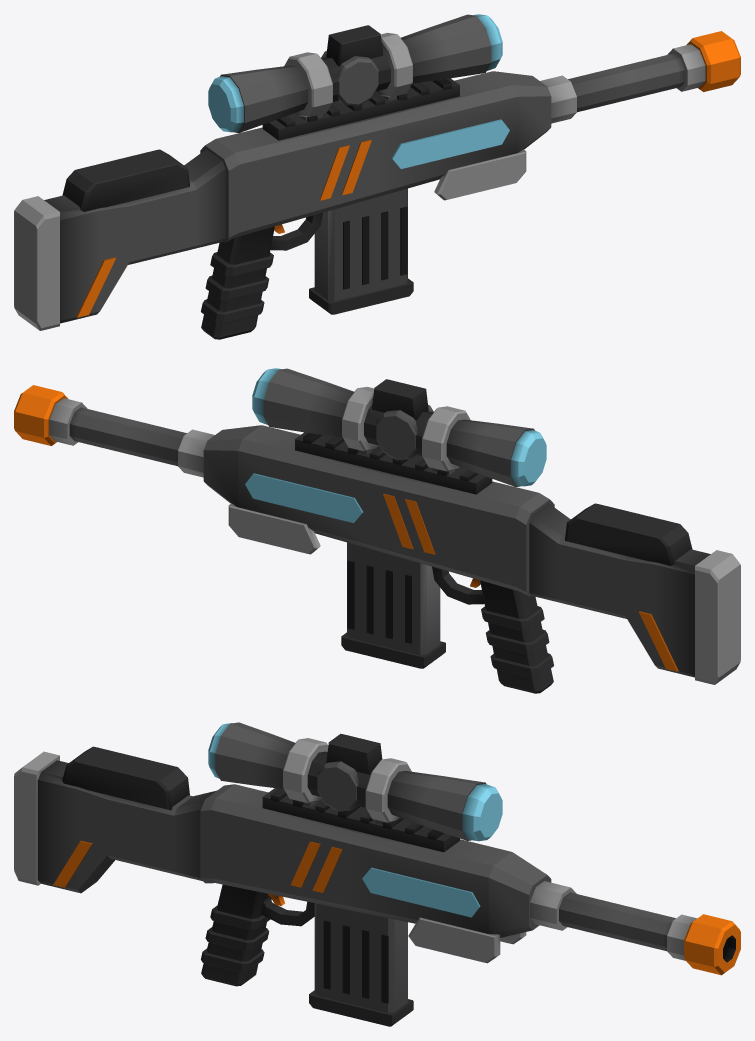
File: sniper.glb
3 views of the same model, one above another, from view 1: azimuth 30°, elevation 25°; view 2: azimuth 150°, elevation 25°; view 3: azimuth 330°, elevation 25° (orthographic).
Parts seen in each view (by area): view 1: sniper; view 2: sniper; view 3: sniper.
Part boxes in pixels (box(x1,y1,x2,y2)): sniper: box(14, 14, 740, 339); sniper: box(14, 368, 740, 693); sniper: box(14, 722, 740, 1026).
Bounding box in the file's own units: 1.32 × 0.475 × 0.1.
Materials: 1 (1 with a texture image).
